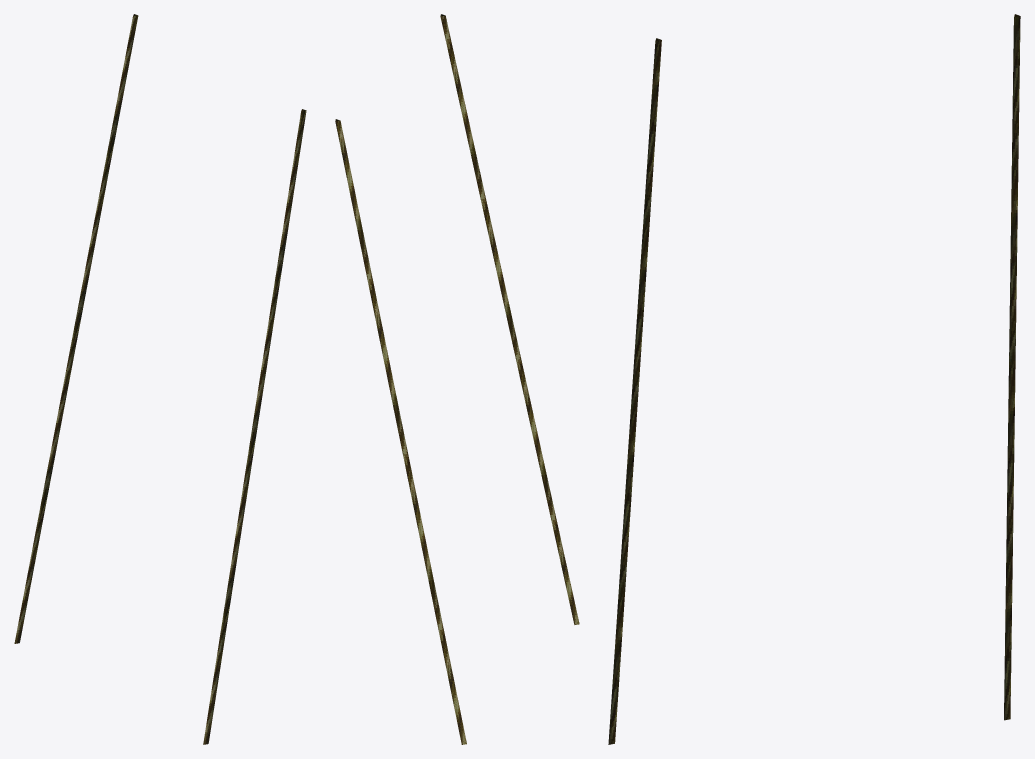
File: OVERHILL_A_01_LINE187.fbx
3 views of the same model, side by side, from view 1: azimuth 30°, elevation 25°; view 2: azimuth 150°, elevation 25°; view 3: azimuth 270°, elevation 25° (orthographic). The views are drawn at different scales.
Visible parts, largest first — view 1: OVERHILL_A_01_LINE187; view 2: OVERHILL_A_01_LINE187; view 3: OVERHILL_A_01_LINE187.
Part boxes in pixels (x1,y1,x2,y2): OVERHILL_A_01_LINE187: (14,14,306,744); OVERHILL_A_01_LINE187: (335,14,579,744); OVERHILL_A_01_LINE187: (608,14,1020,744).
Bounding box in the file's own units: 14487 × 51772 × 24735.
Materials: 1 (1 with a texture image).
